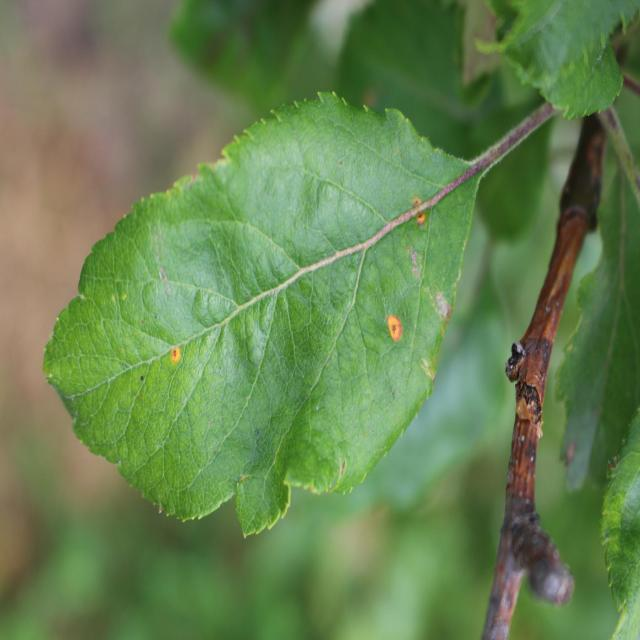Black Rot: (432, 275, 462, 350)
Rust: (160, 327, 192, 381), (380, 302, 406, 351), (402, 189, 427, 214), (414, 214, 431, 232)
